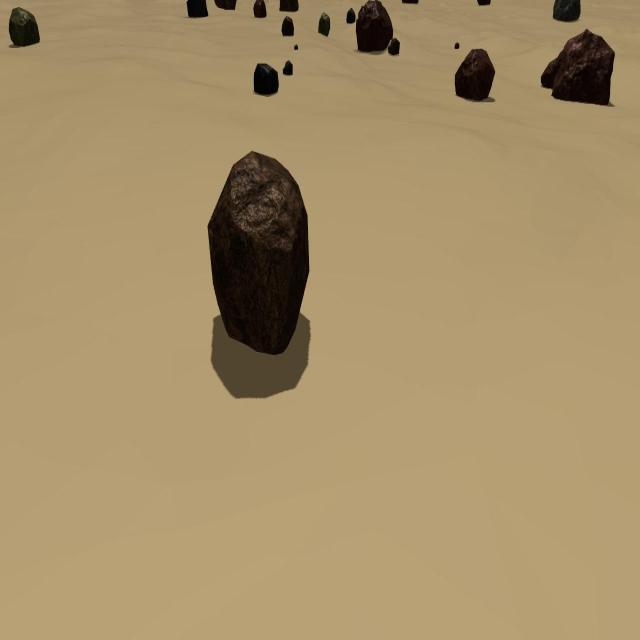rock: (208, 150, 310, 355), (551, 28, 615, 106), (454, 48, 495, 100), (357, 0, 393, 52), (9, 5, 40, 48), (541, 49, 566, 87), (254, 62, 279, 96), (552, 0, 580, 22), (186, 0, 209, 18), (318, 12, 331, 36), (282, 14, 294, 37), (214, 0, 236, 10), (278, 0, 298, 11), (388, 36, 399, 56), (254, 1, 266, 19), (283, 60, 293, 77), (346, 7, 355, 24), (477, 0, 490, 6), (402, 0, 418, 4), (454, 41, 459, 50), (294, 44, 298, 50)
